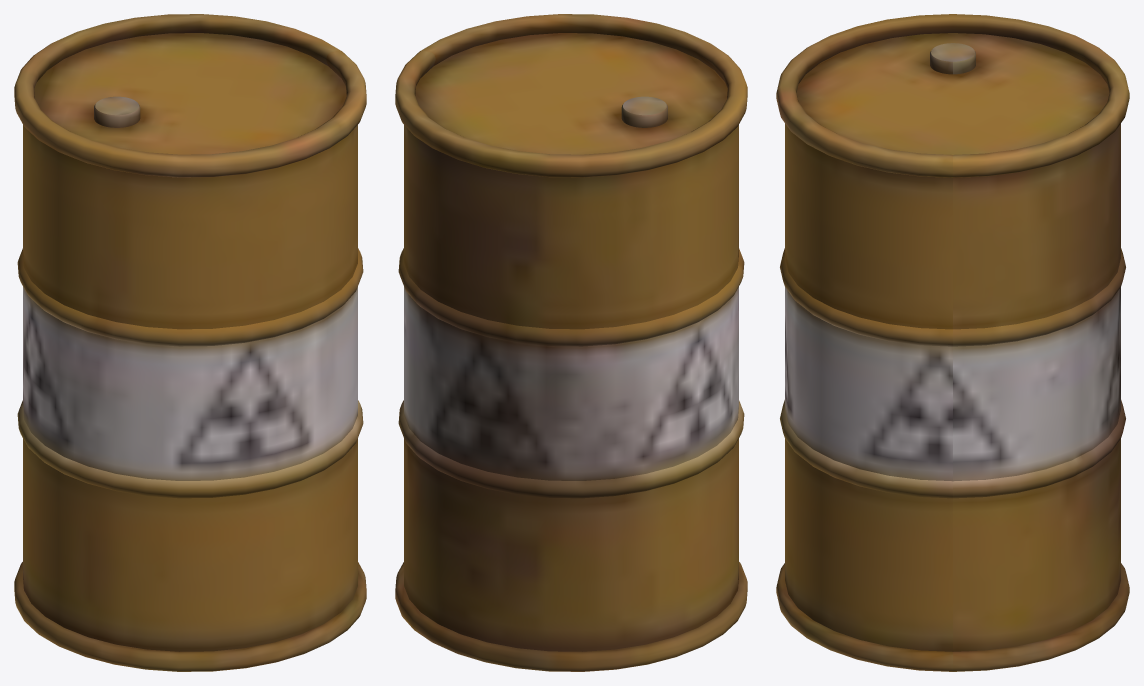
Rendered from hazard-drum--4.gltf.
3 renders of one model, left to right at view 1: azimuth 30°, elevation 25°; view 2: azimuth 150°, elevation 25°; view 3: azimuth 270°, elevation 25°, orthographic.
Visible parts, largest first — view 1: Cylinder; view 2: Cylinder; view 3: Cylinder.
Part boxes in pixels (box(x1,y1,x2,y2)): Cylinder: box(14, 14, 366, 671); Cylinder: box(395, 14, 747, 671); Cylinder: box(776, 14, 1129, 671).
Bounding box in the file's own units: 0.5621 × 0.9 × 0.5621.
Materials: 1 (1 with a texture image).
